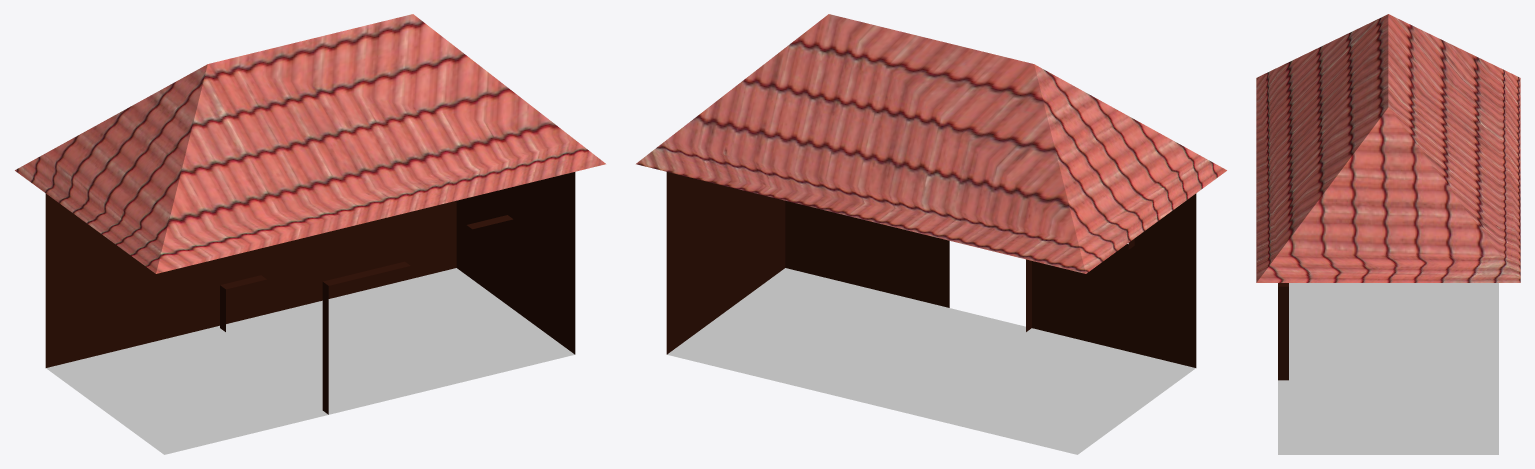
Rendered from house.dae.
The picture shows the model from 3 angles, left to right: view 1: azimuth 30°, elevation 25°; view 2: azimuth 150°, elevation 25°; view 3: azimuth 270°, elevation 25°; orthographic projection. The views are drawn at different scales.
Parts seen in each view (by area): view 1: Cube; view 2: Cube; view 3: Cube.
Boxes of the visible parts, left/top/right/bottom form: Cube: left=15, top=14, right=605, bottom=454; Cube: left=636, top=14, right=1226, bottom=454; Cube: left=1256, top=14, right=1520, bottom=454.
Size of what is drawn, in the model's own units: 4.39 by 2.39 by 3.
3 materials, 1 textured.
